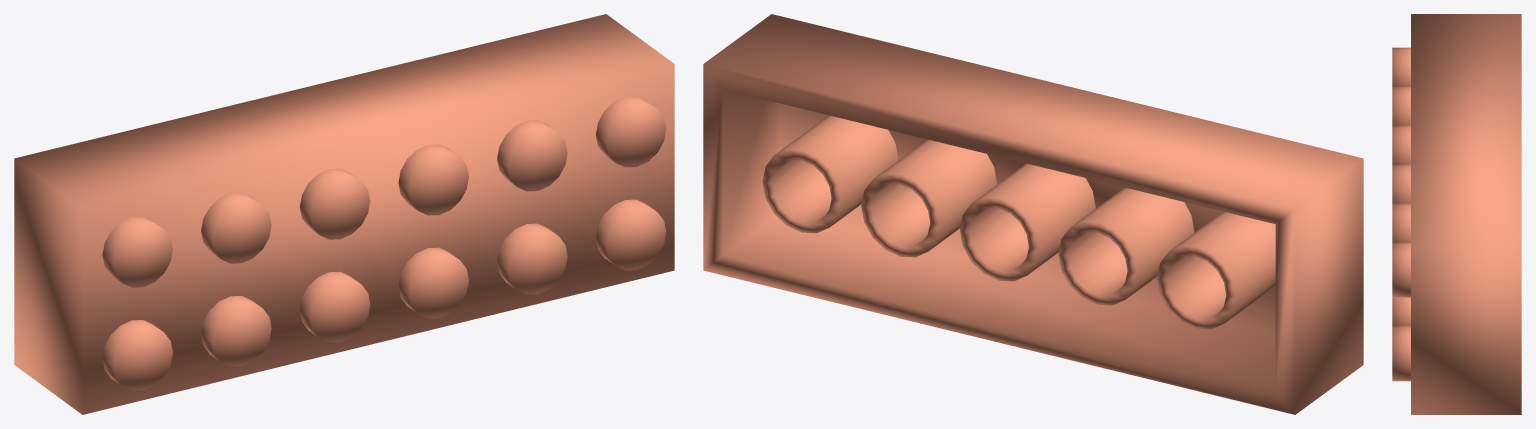
The picture shows the model from 3 angles, left to right: view 1: azimuth 30°, elevation 25°; view 2: azimuth 150°, elevation 25°; view 3: azimuth 270°, elevation 25°; orthographic projection. The views are drawn at different scales.
Size of the model in its own units: 48 by 16 by 11.2.
